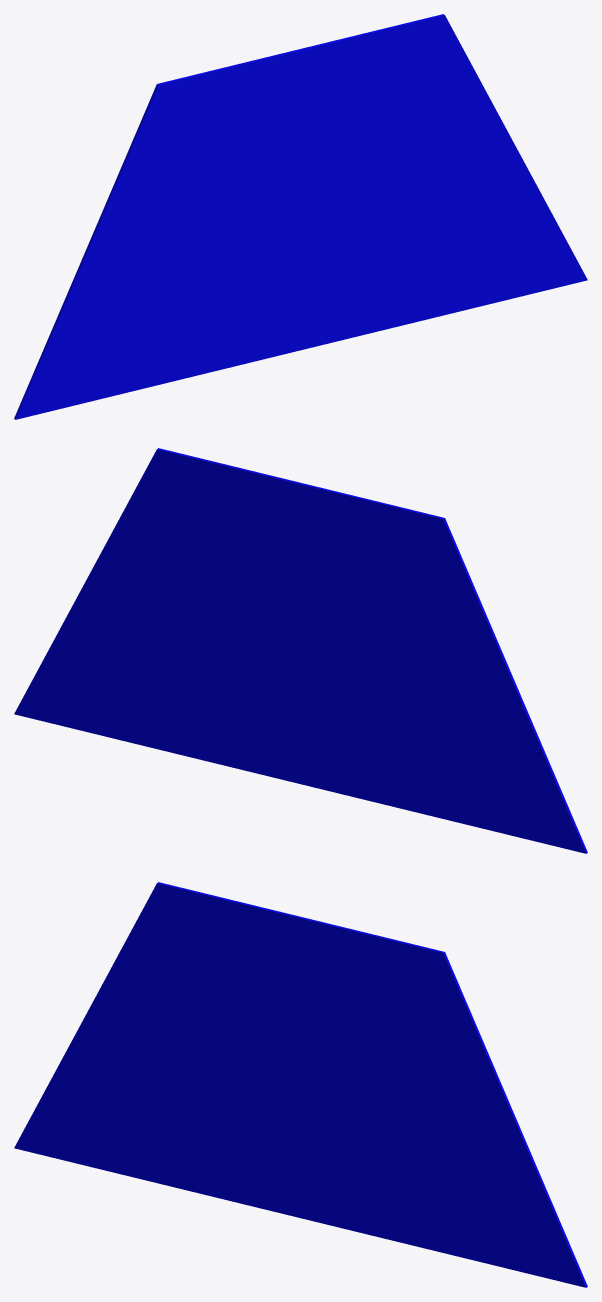
File: Trapesium.fbx
3 renders of one model, top to bottom at view 1: azimuth 30°, elevation 25°; view 2: azimuth 150°, elevation 25°; view 3: azimuth 330°, elevation 25°, orthographic.
Visible parts, largest first — view 1: Plane; view 2: Plane; view 3: Plane.
Boxes of the visible parts, x1,y1,x2,y2 form: Plane: [14, 14, 587, 419]; Plane: [14, 448, 587, 853]; Plane: [14, 882, 587, 1287].
Size of the model in its own units: 399 by 200 by 2.
